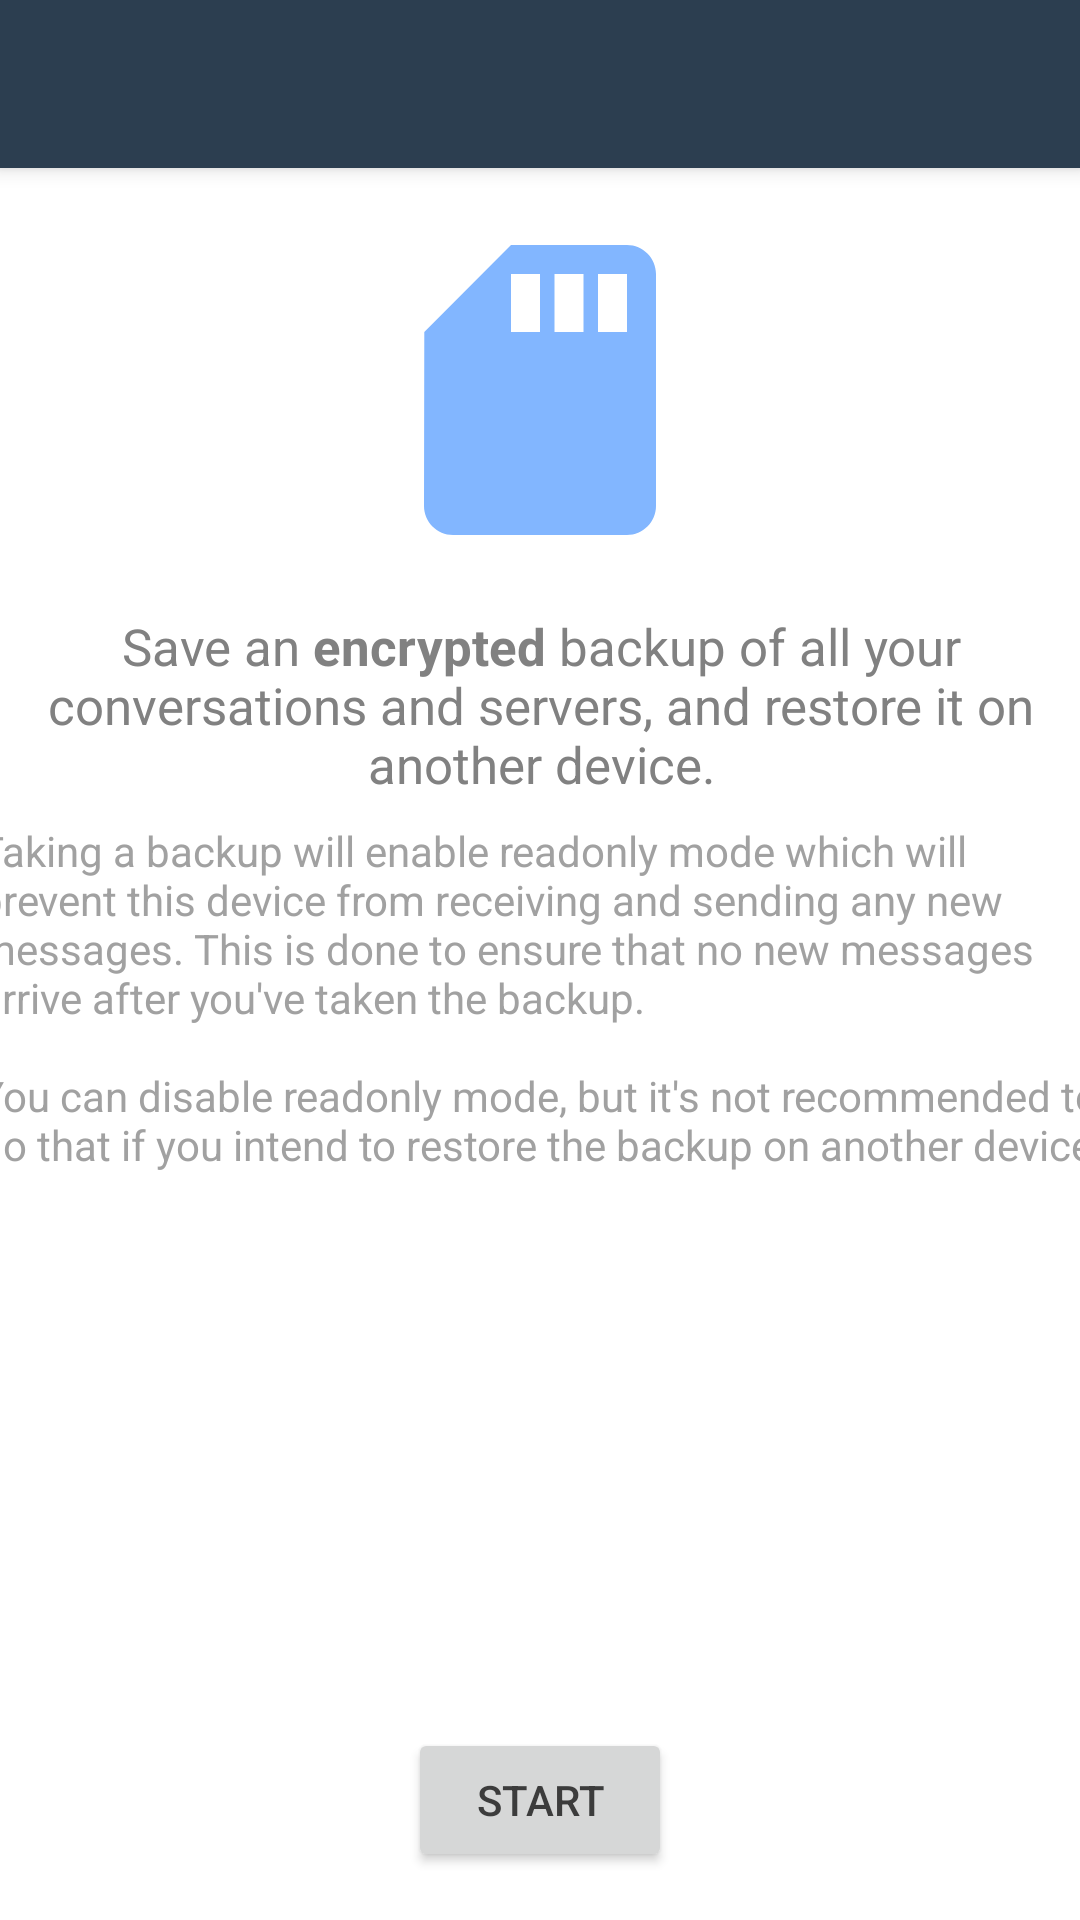

Icons on this 1080px×1920px Android screen, each with its box as {"x1": x1, "y1": y1, "x2": x2, "y2": y2}:
sd storage: {"x1": 424, "y1": 245, "x2": 656, "y2": 535}
